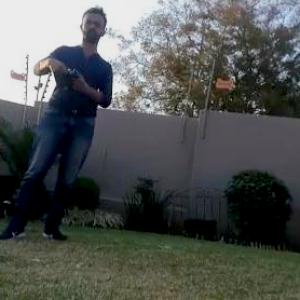follow: (0, 0, 119, 248)
